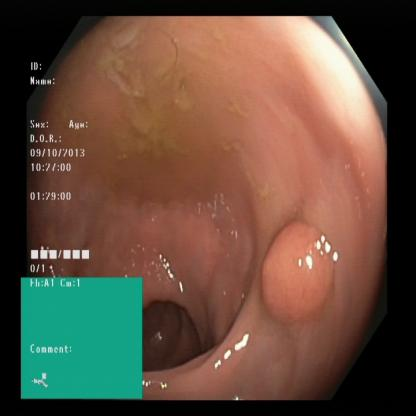Labels: (29, 54, 98, 279), (22, 278, 146, 397)
Polyps: (258, 209, 340, 338)
